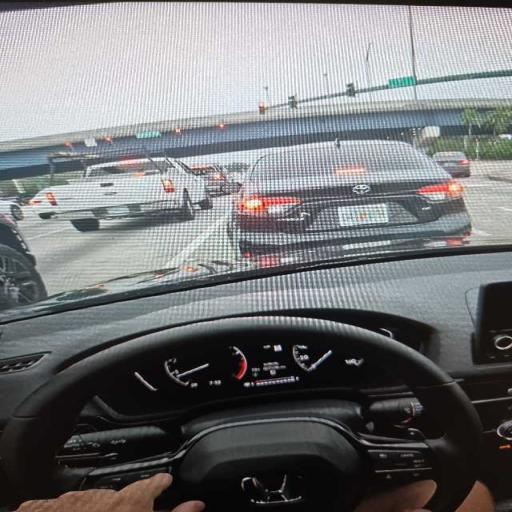car: (0, 2, 511, 511), (229, 141, 471, 256), (30, 158, 212, 231), (0, 214, 47, 309), (189, 165, 228, 194), (432, 152, 470, 177), (0, 200, 23, 220)
lane: (29, 198, 228, 294), (462, 174, 511, 242)
person: (17, 474, 171, 511)
